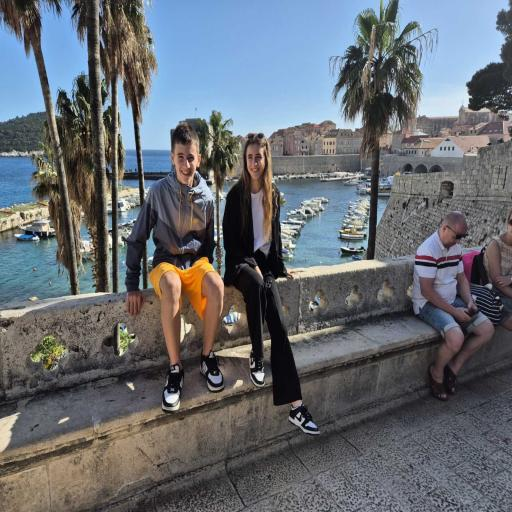masa: (244, 143, 268, 185)
